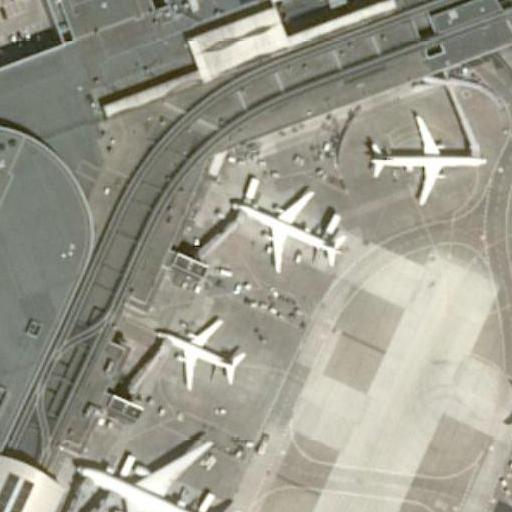Aircraft: (66, 428, 245, 512), (355, 102, 486, 208), (222, 178, 347, 275), (147, 309, 250, 387), (499, 343, 512, 512)
